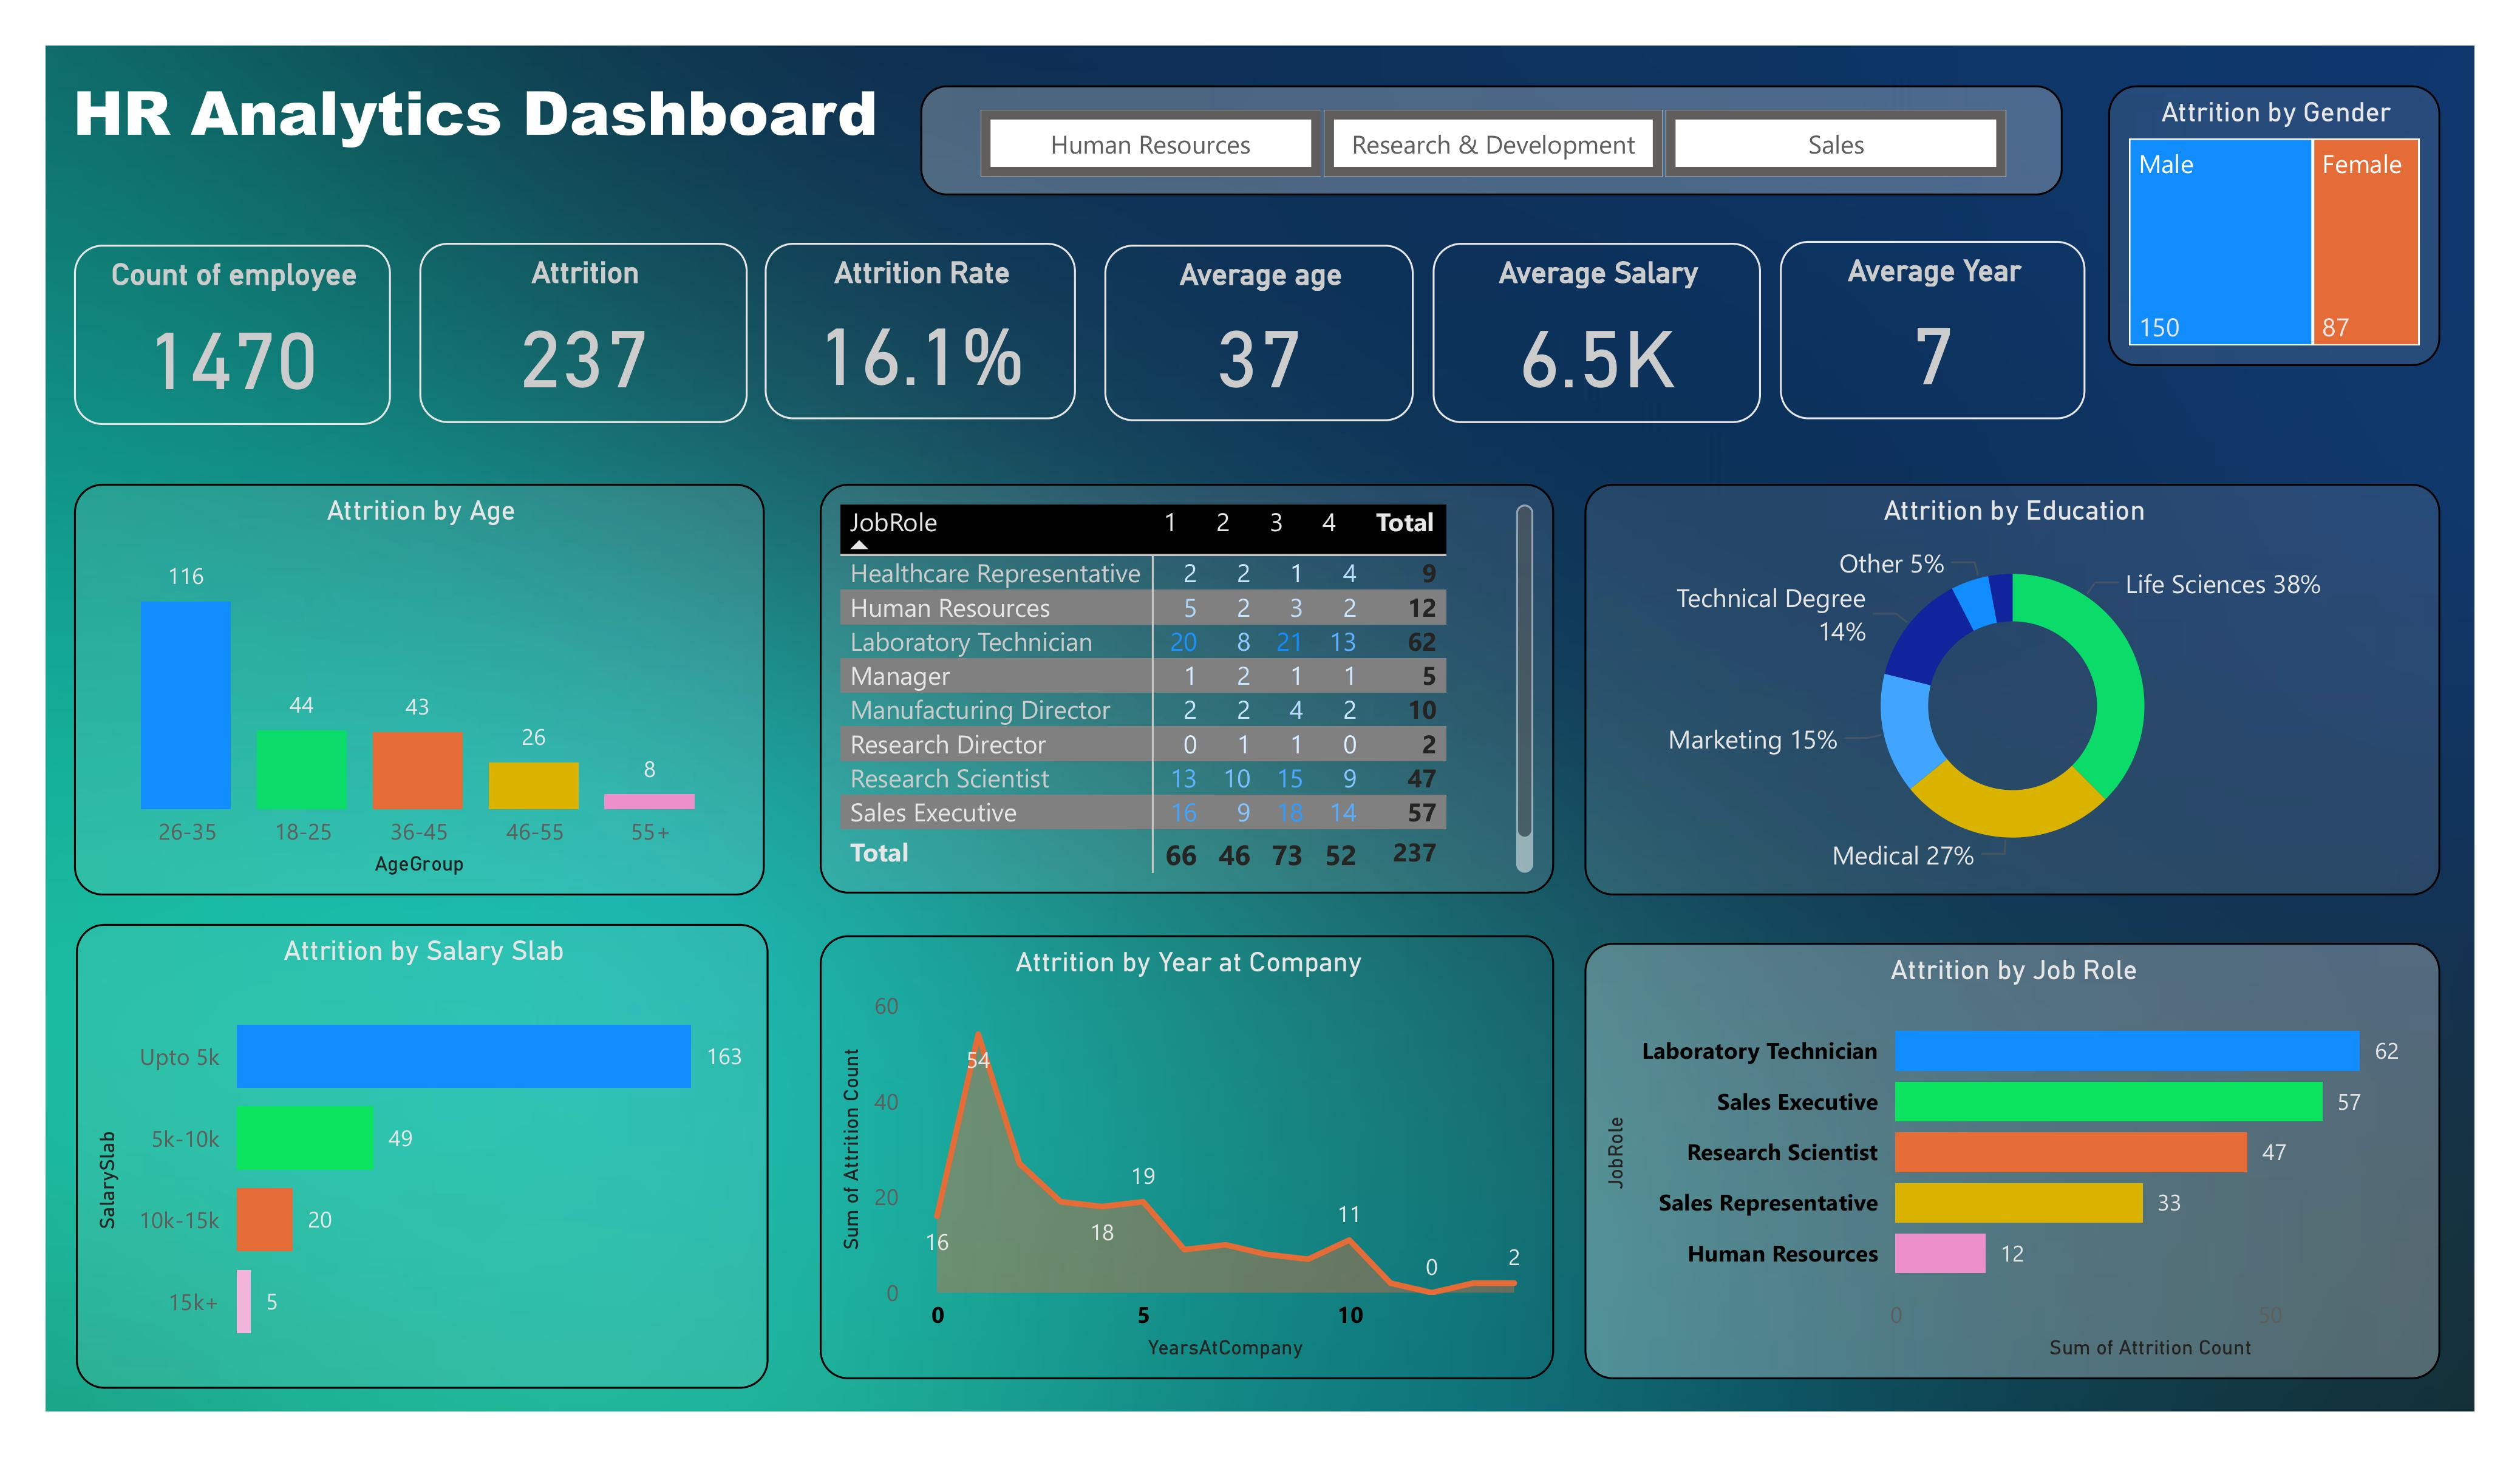

This screenshot's page, from the dashboard's own definition file:
{"tool":"powerbi","page":{"name":"Page 1","canvas":[1280,720],"ordinal":0},"visuals":[{"type":"card","title":"Count of employee","fields":{"Values":["CountNonNull(HR_Analytics.EmpID)"]},"box":[15.2,105.5,166.4,94.9],"z":0},{"type":"card","title":"Attrition","fields":{"Values":["Sum(HR_Analytics.Custom)"]},"box":[196.9,104.3,173.4,94.9],"z":1000},{"type":"card","title":"Attrition Rate ","fields":{"Values":["HR_Analytics.AttritionRate"]},"box":[378.5,104.3,164.1,92.6],"z":2000},{"type":"card","title":"Average age","fields":{"Values":["Avg(HR_Analytics.Age)"]},"box":[557.8,105.5,162.9,92.6],"z":3000},{"type":"card","title":"Average Salary","fields":{"Values":["Avg(HR_Analytics.MonthlyIncome)"]},"box":[731.3,104.3,172.3,94.9],"z":4000},{"type":"card","title":"Average Year","fields":{"Values":["Avg(HR_Analytics.YearsAtCompany)"]},"box":[914.1,103.1,160.5,93.8],"z":5000},{"type":"donutChart","title":"Attrition by Education","fields":{"Category":["HR_Analytics.EducationField"],"Y":["Sum(HR_Analytics.Attrition Count )"]},"box":[810.9,230.9,451.2,216.8],"z":6000},{"type":"columnChart","title":"Attrition by Age","fields":{"Y":["Sum(HR_Analytics.Attrition Count )"],"Category":["HR_Analytics.AgeGroup"]},"box":[15.2,230.9,363.3,216.8],"z":7000},{"type":"pivotTable","fields":{"Rows":["HR_Analytics.JobRole"],"Columns":["HR_Analytics.JobSatisfaction"],"Values":["Sum(HR_Analytics.Attrition Count )"]},"box":[407.5,230.5,387,216.8],"z":8000},{"type":"clusteredBarChart","title":"Attrition by Salary Slab","fields":{"Category":["HR_Analytics.SalarySlab"],"Y":["Sum(HR_Analytics.Attrition Count )"]},"box":[16.4,462.9,364.5,244.9],"z":9000},{"type":"clusteredBarChart","title":"Attrition by Job Role","fields":{"Y":["Sum(HR_Analytics.Attrition Count )"],"Category":["HR_Analytics.JobRole"]},"box":[810.9,473.4,451.2,229.7],"z":10000},{"type":"lineChart","title":"Attrition by Year at Company ","fields":{"Category":["HR_Analytics.YearsAtCompany"],"Y":["Sum(HR_Analytics.Attrition Count )"]},"box":[407.8,468.8,386.7,234.4],"z":11000},{"type":"treemap","title":"Attrition by Gender ","fields":{"Group":["HR_Analytics.Gender"],"Values":["Sum(HR_Analytics.Attrition Count )"]},"box":[1086.8,20.6,175.6,148.2],"z":12000},{"type":"slicer","fields":{"Values":["HR_Analytics.Department"]},"box":[459.4,21.1,602.4,57.4],"z":13000},{"type":"textbox","box":[0,6.9,452.8,71.4],"z":14000}]}

Visuals, with their boxes in screenshot pixels (x1, y1, x2, y2):
"Count of employee" card: (74, 246, 390, 426)
"Attrition" card: (419, 243, 748, 424)
"Attrition Rate " card: (764, 243, 1075, 419)
"Average age" card: (1104, 246, 1413, 421)
"Average Salary" card: (1433, 243, 1760, 424)
"Average Year" card: (1780, 241, 2085, 419)
"Attrition by Education" donutChart: (1584, 484, 2440, 895)
"Attrition by Age" columnChart: (74, 484, 764, 895)
pivotTable - HR_Analytics.JobRole x HR_Analytics.JobSatisfaction: (819, 483, 1553, 894)
"Attrition by Salary Slab" clusteredBarChart: (77, 924, 768, 1388)
"Attrition by Job Role" clusteredBarChart: (1584, 943, 2440, 1379)
"Attrition by Year at Company " lineChart: (819, 935, 1553, 1379)
"Attrition by Gender " treemap: (2108, 84, 2441, 365)
slicer - HR_Analytics.Department: (918, 86, 2060, 194)
textbox: (46, 59, 905, 194)
